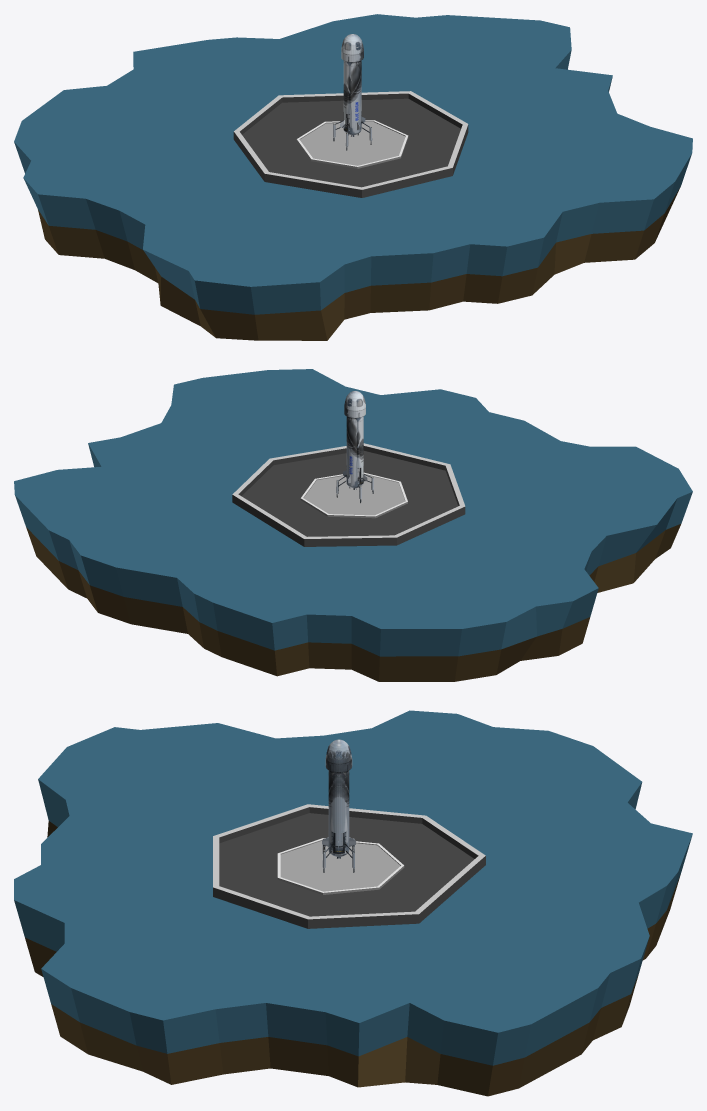
File: new-shepard.gltf
3 renders of one model, top to bottom at view 1: azimuth 30°, elevation 25°; view 2: azimuth 150°, elevation 25°; view 3: azimuth 270°, elevation 25°, orthographic. The views are drawn at different scales.
Visible parts, largest first — view 1: Plane.001, Cube; view 2: Plane.001, Cube; view 3: Plane.001, Cube.
Boxes of the visible parts, left/top/right/bottom form: Plane.001: left=14, top=14, right=692, bottom=340; Cube: left=333, top=34, right=372, bottom=150; Plane.001: left=14, top=369, right=692, bottom=681; Cube: left=336, top=391, right=373, bottom=503; Plane.001: left=14, top=710, right=692, bottom=1096; Cube: left=322, top=739, right=355, bottom=872.
Size of the model in its own units: 8.06 by 2.39 by 7.18.
8 materials, 1 textured.
